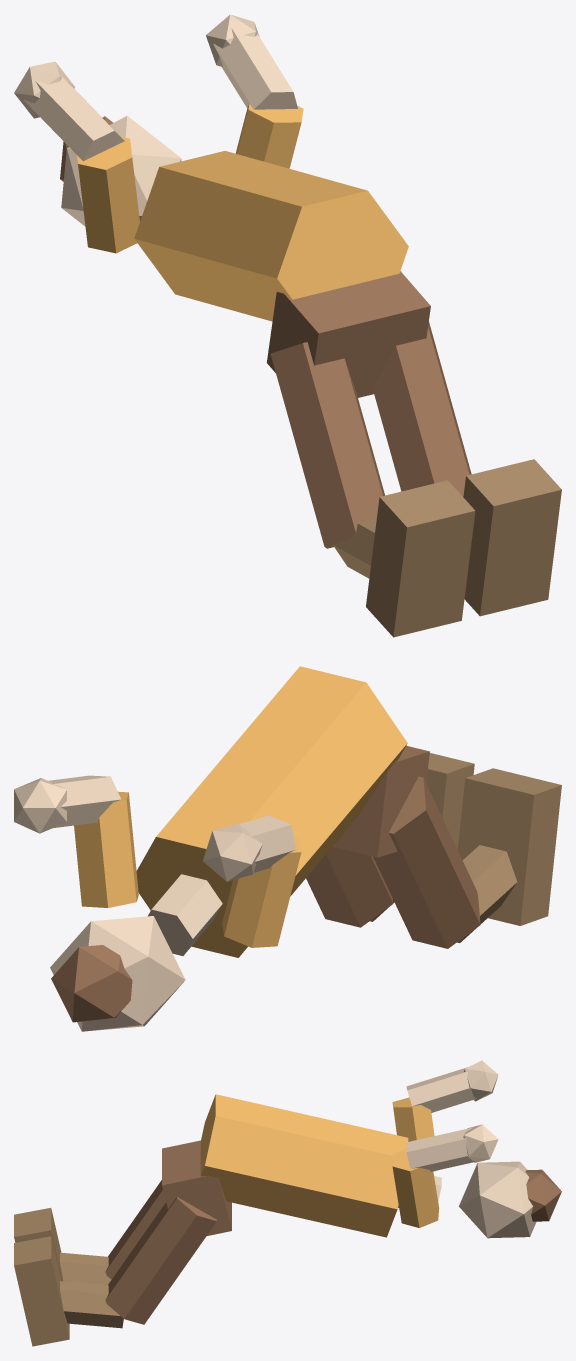
The model's file is pose_dodge_roll_16.glb.
The picture shows the model from 3 angles, top to bottom: view 1: azimuth 30°, elevation 25°; view 2: azimuth 150°, elevation 25°; view 3: azimuth 270°, elevation 25°; orthographic projection. The views are drawn at different scales.
Parts seen in each view (by area): view 1: pose; view 2: pose; view 3: pose.
Part boxes in pixels (left/top/right/bottom): pose: left=14, top=14, right=561, bottom=637; pose: left=14, top=666, right=561, bottom=1031; pose: left=14, top=1060, right=561, bottom=1346.
Bounding box in the file's own units: 0.4876 × 0.6598 × 1.44.
